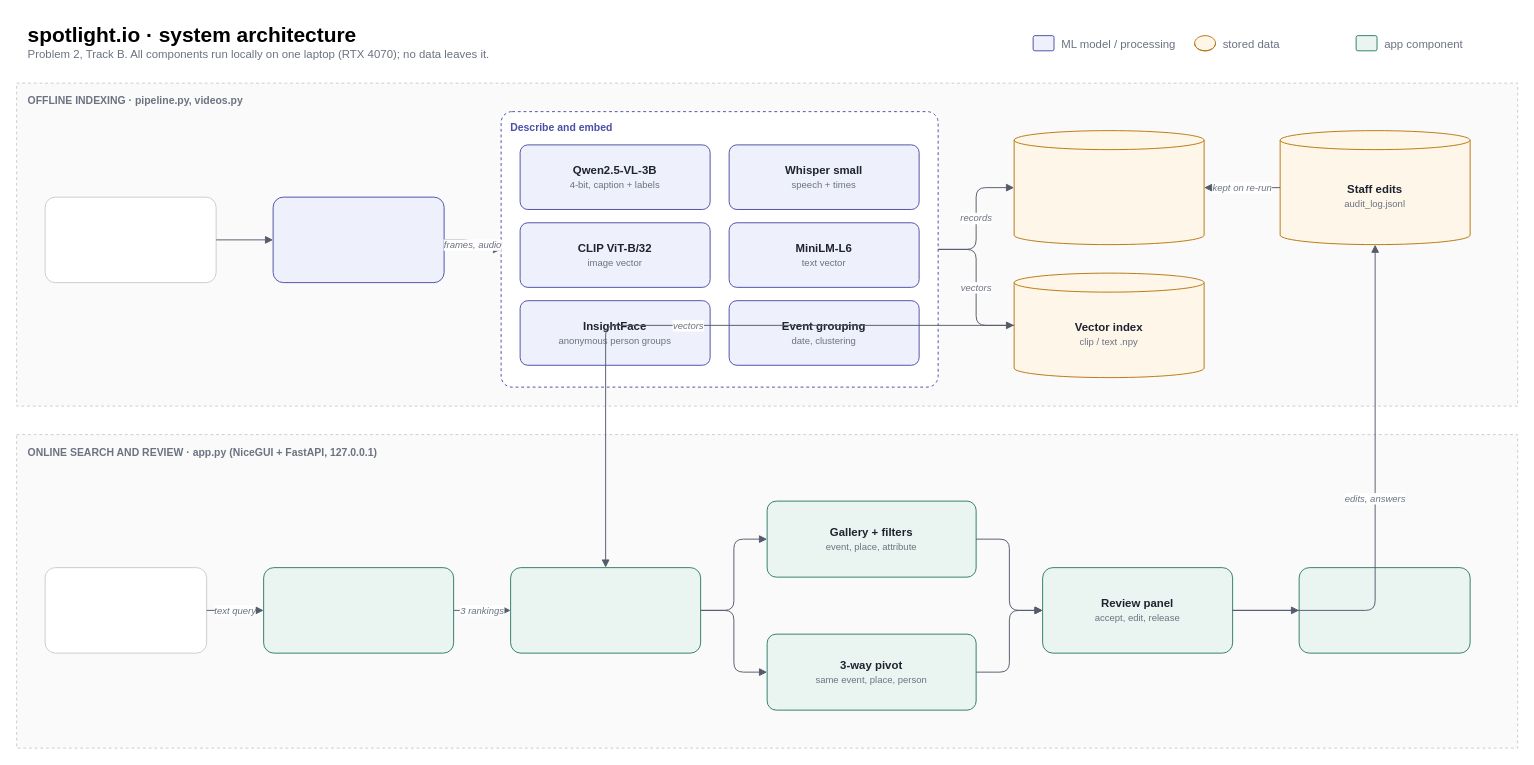
Image size: 1534x765. Some labels were removed from this diagram. Here are the shapes that lost their labels. From the top down, the centre of each, then its label:
pixel 1108 187: Record store photos.json
pixel 130 239: Raw media photos, HEIC, .mov
pixel 358 239: Preprocess auto-rotate, frames
pixel 125 610: DCT staff browser, login
pixel 358 610: Query encoder CLIP + MiniLM + BM25
pixel 605 610: Hybrid ranking Reciprocal Rank Fusion
pixel 1384 610: Export JPEG, ZIP, CSV
